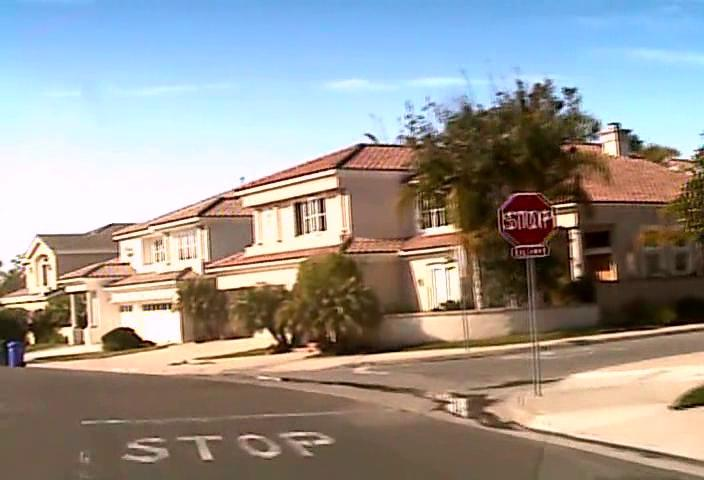stop: (498, 192, 555, 246)
